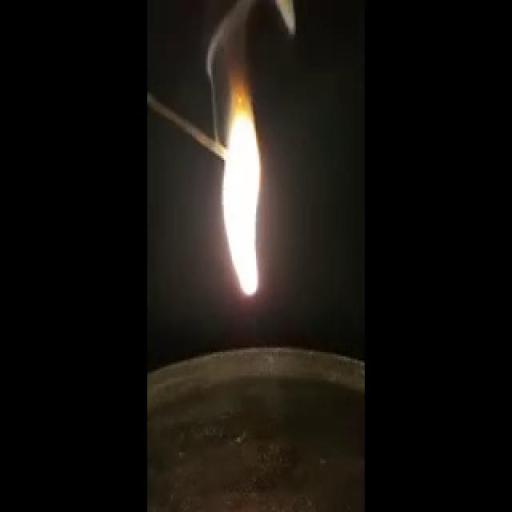smoke: (215, 52, 278, 317)
